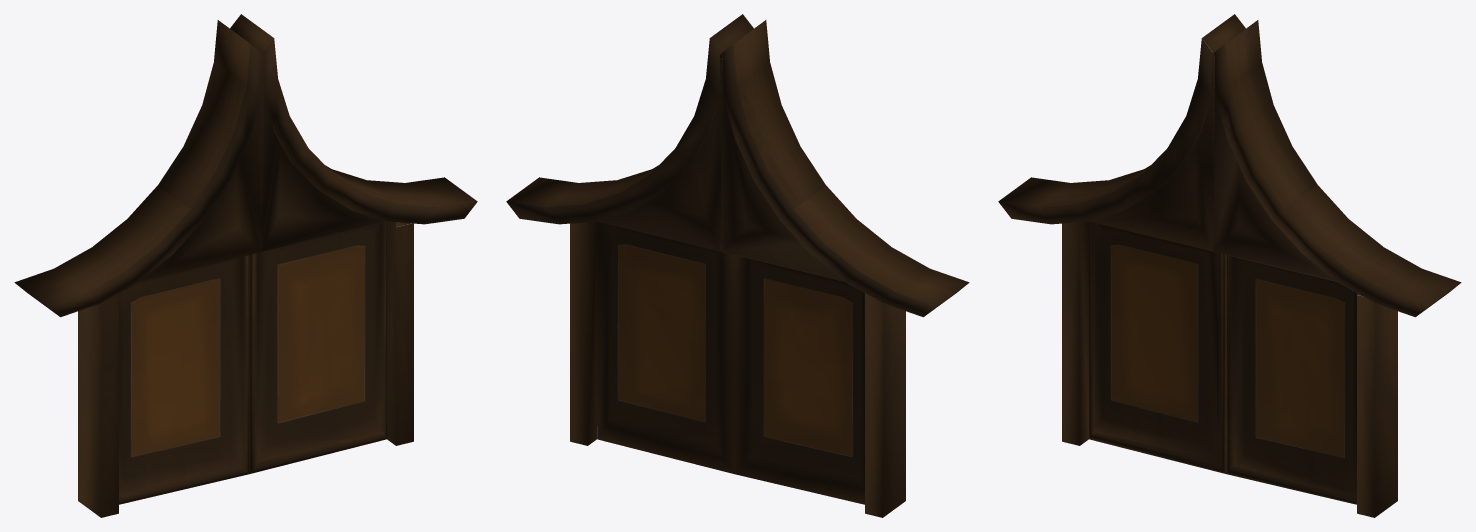
File: porta_castelo_fogo.fbx
3 renders of one model, left to right at view 1: azimuth 30°, elevation 25°; view 2: azimuth 150°, elevation 25°; view 3: azimuth 330°, elevation 25°, orthographic.
Visible parts, largest first — view 1: Circle; view 2: Circle; view 3: Circle.
Part boxes in pixels (bbox=[...]): Circle: bbox=[14, 14, 477, 517]; Circle: bbox=[506, 14, 969, 517]; Circle: bbox=[998, 14, 1461, 517].
Bounding box in the file's own units: 2.11 × 2.08 × 0.2812.
